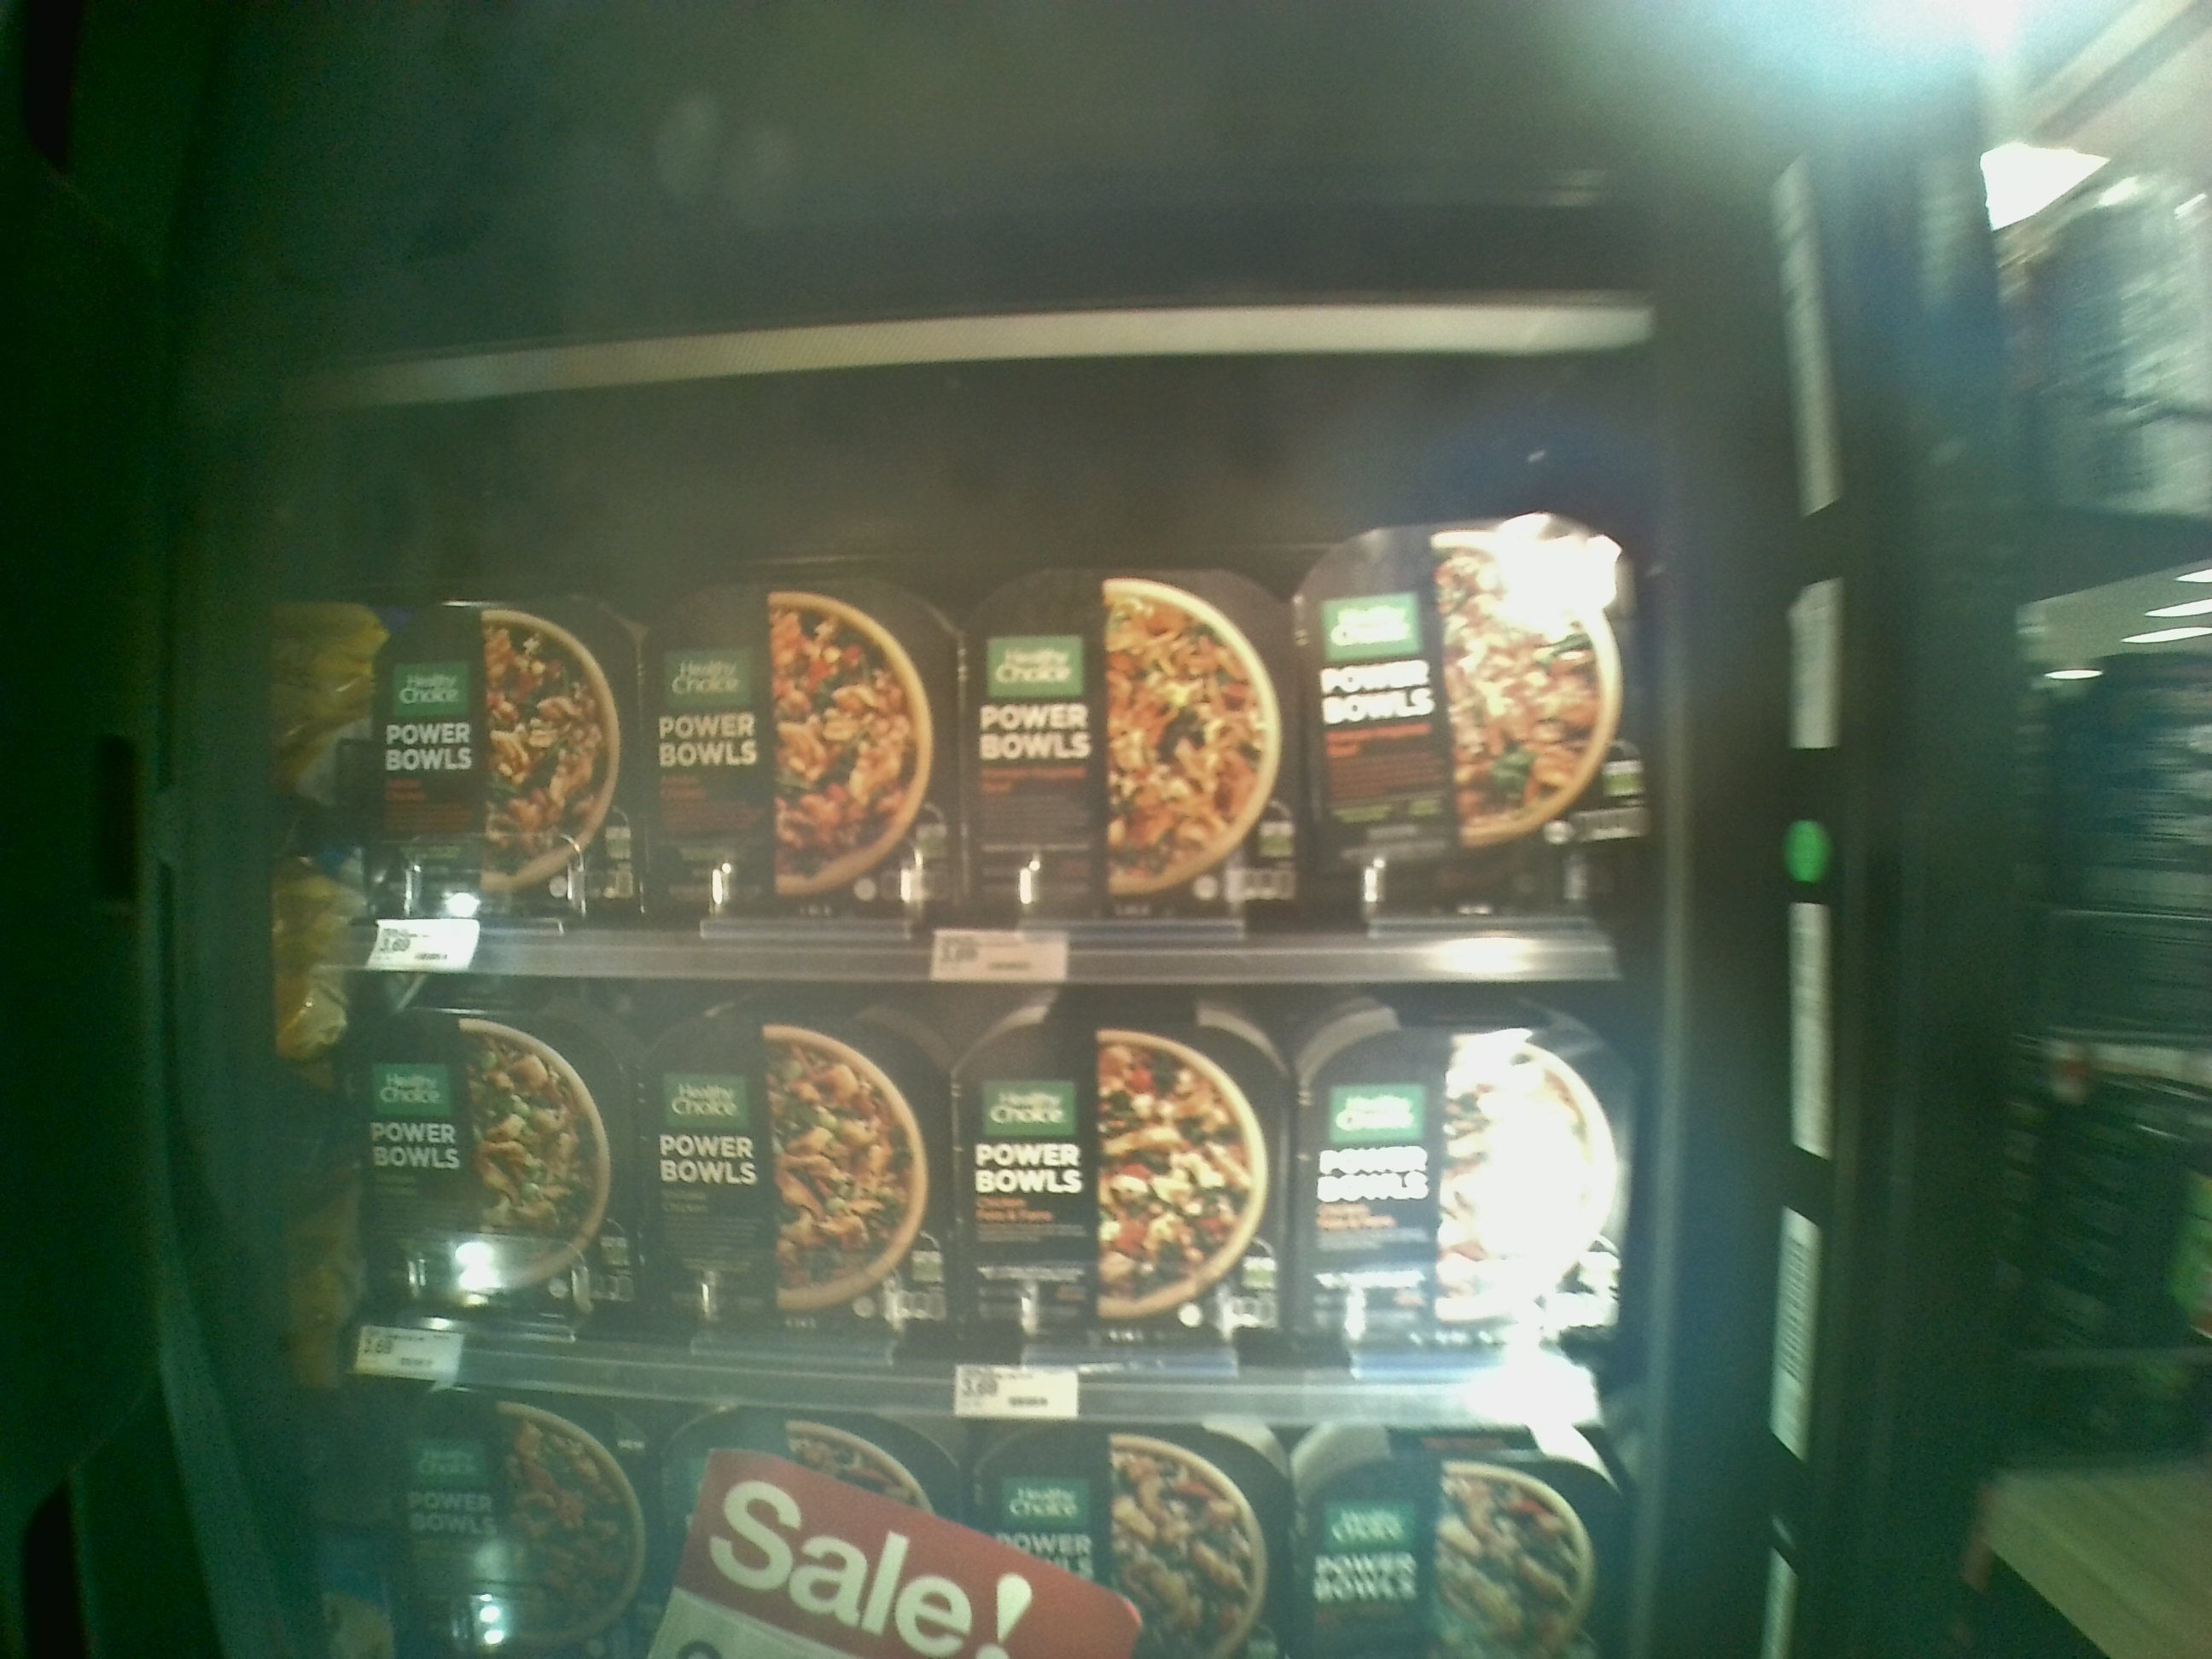shelf: (266, 307, 1642, 988), (340, 969, 1625, 1424)
